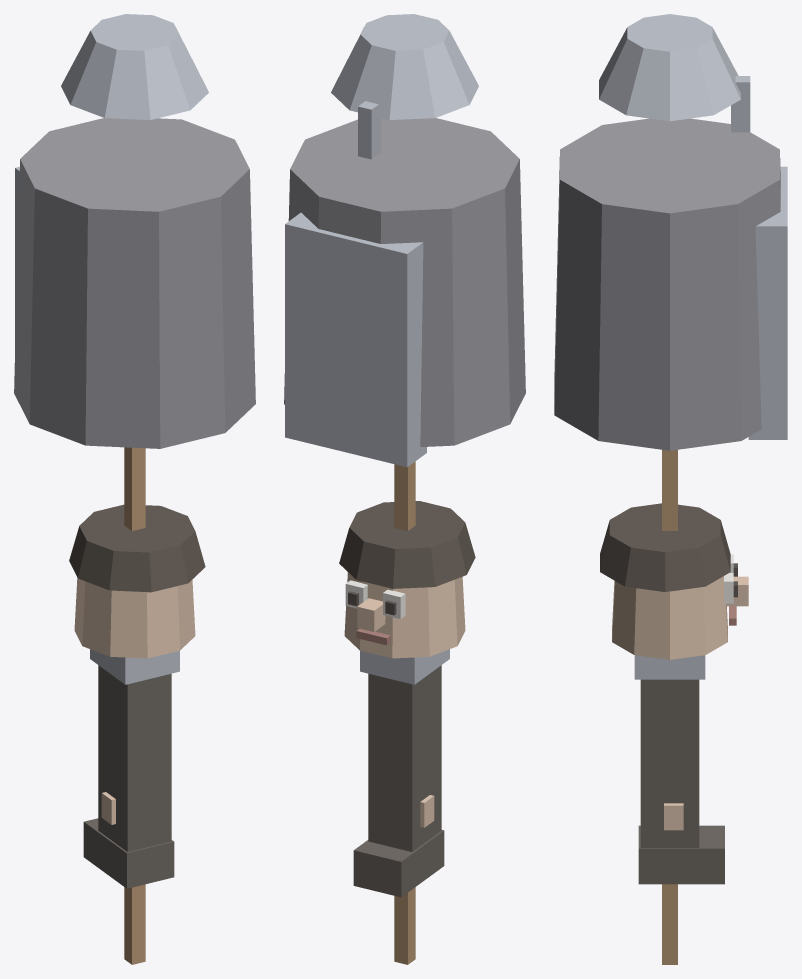
The model's file is npc_halden.glb.
The picture shows the model from 3 angles, left to right: view 1: azimuth 30°, elevation 25°; view 2: azimuth 150°, elevation 25°; view 3: azimuth 270°, elevation 25°; orthographic projection.
Visible parts, largest first — view 1: Torso, LimbLegL, Helmet, Hair, Head, BootL, PropSpear, PauldronL, Tabard; view 2: Torso, Tabard, LimbLegL, Helmet, Hair, Head, BootL, PropSpear, PauldronL, HelmetNasal, Nose; view 3: Torso, Helmet, LimbLegL, Hair, Head, Tabard, BootL, PropSpear, PauldronL, HelmetNasal, ThumbL.
Part boxes in pixels (box(x1,y1,x2,y2)): Torso: box(14, 118, 255, 448); LimbLegL: box(98, 665, 171, 851); Helmet: box(61, 14, 208, 120); Hair: box(69, 504, 205, 592); Head: box(74, 578, 195, 658); BootL: box(83, 818, 174, 888); PropSpear: box(124, 447, 145, 964); PauldronL: box(90, 649, 179, 684); Tabard: box(15, 166, 19, 349); Torso: box(284, 118, 525, 446); Tabard: box(285, 212, 426, 467); LimbLegL: box(368, 665, 441, 851); Helmet: box(331, 14, 478, 120); Hair: box(339, 501, 475, 588); Head: box(344, 572, 465, 658); BootL: box(353, 830, 444, 897); PropSpear: box(394, 461, 415, 964); PauldronL: box(360, 649, 449, 684); HelmetNasal: box(358, 101, 381, 159); Nose: box(357, 598, 385, 631); Torso: box(554, 118, 780, 450); Helmet: box(599, 14, 740, 121); LimbLegL: box(640, 679, 699, 847); Hair: box(600, 503, 730, 591); Head: box(612, 576, 727, 659); Tabard: box(748, 166, 787, 439); BootL: box(638, 825, 724, 884); PropSpear: box(662, 450, 677, 964); PauldronL: box(634, 655, 705, 679); HelmetNasal: box(731, 76, 750, 132); ThumbL: box(664, 803, 683, 830).
Bounding box in the file's own units: 0.62 × 2.61 × 0.5948.
